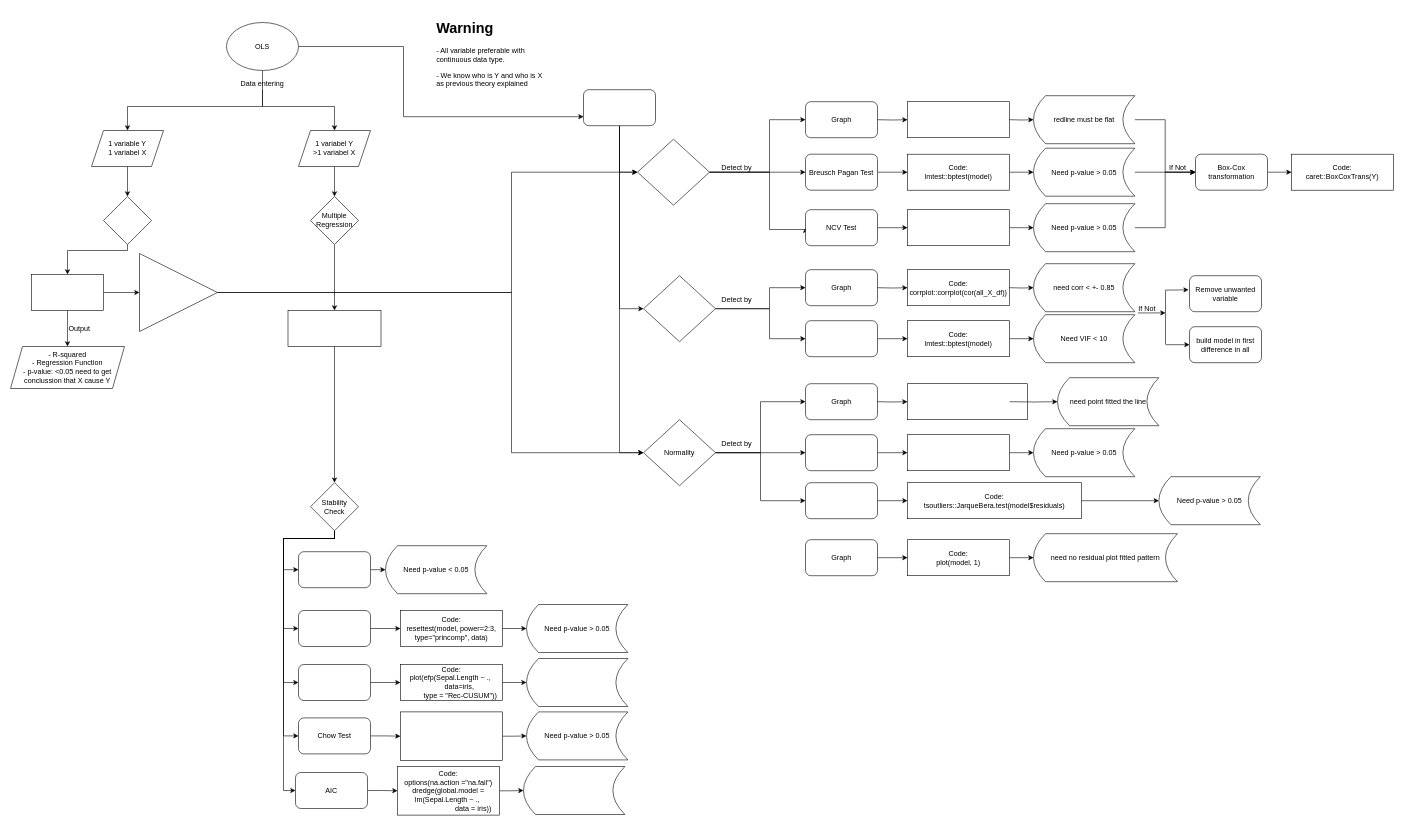
The diagram is 1404 pixels wide and 826 high, and some of its shapes have lost their labels. The shapes that lost their labels are listed below. From the top down, each one's box as (x1, y1, x2, y2) in pixels, then its label:
(583, 89, 656, 126): Asumptions: Must be...
(907, 101, 1010, 138): Code: plot(model)
(637, 139, 710, 205): Homoscedasticity
(103, 196, 152, 244): Simple Regression
(907, 209, 1010, 246): Code: car::ncvTest(model)
(31, 274, 104, 310): Code: lm(Y ~ X, data)
(139, 253, 218, 332): Confirm Asumptions
(643, 275, 716, 342): Not Multicolinierity
(287, 310, 381, 346): Code: lm(Y ~ X1+X2+...., data)
(805, 320, 878, 357): VIF
(907, 383, 1028, 420): Code: ggpubr::ggqqplot(model$residuals)
(805, 434, 878, 471): Shapiro-Wilk’s
(907, 434, 1010, 471): Code: shapiro.test(model$residuals)
(805, 482, 878, 519): Jarque-Bera
(298, 551, 370, 588): F-test
(298, 610, 370, 646): RESET
(298, 664, 370, 700): Recursive Residual
(526, 658, 628, 706): Need black line inside the band
(400, 711, 502, 760): Code: sctest(Sepal.Length ~ ., data=iris, type = "Chow", point = 10)
(523, 766, 625, 814): Need the lowest AIC
